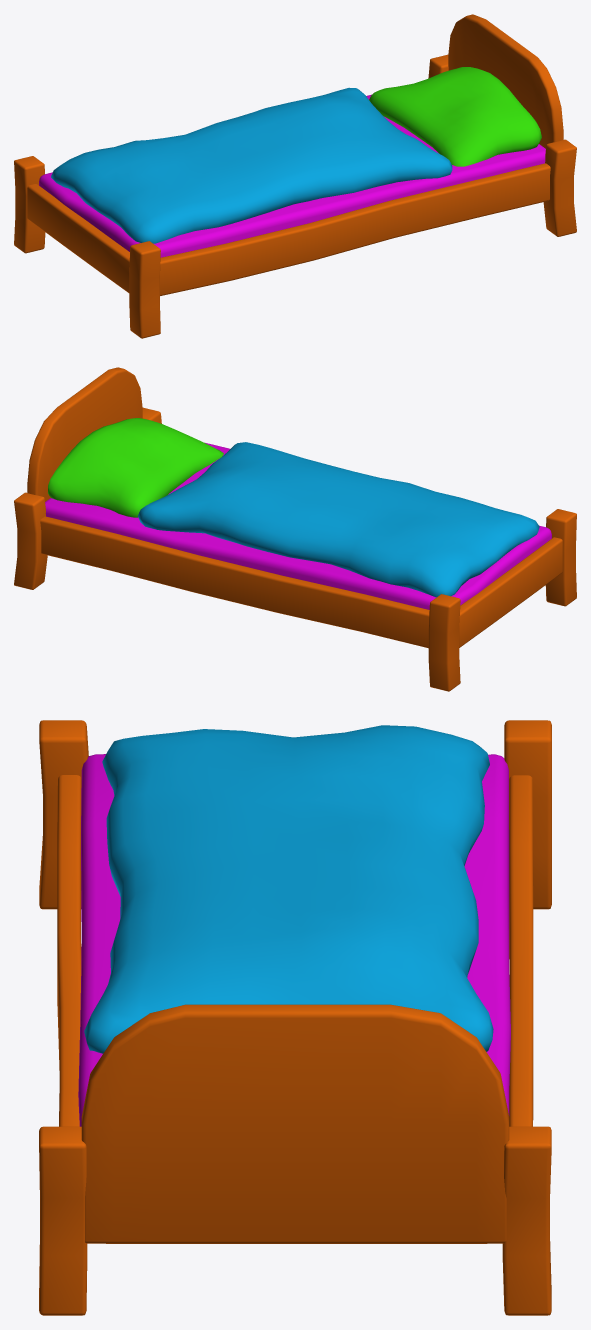
File: bed.glb
3 views of the same model, one above another, from view 1: azimuth 30°, elevation 25°; view 2: azimuth 150°, elevation 25°; view 3: azimuth 270°, elevation 25° (orthographic). The views are drawn at different scales.
Visible parts, largest first — view 1: BedFrame, Blanket, Pillow, Mattress; view 2: BedFrame, Blanket, Pillow, Mattress; view 3: BedFrame, Blanket, Mattress.
Part boxes in pixels (bbox=[...]): BedFrame: bbox=[14, 14, 576, 338]; Blanket: bbox=[51, 87, 452, 243]; Pillow: bbox=[369, 67, 541, 166]; Mattress: bbox=[39, 94, 545, 257]; BedFrame: bbox=[14, 367, 576, 691]; Blanket: bbox=[138, 442, 539, 597]; Pillow: bbox=[48, 418, 223, 517]; Mattress: bbox=[45, 442, 551, 609]; BedFrame: bbox=[39, 720, 551, 1315]; Blanket: bbox=[84, 725, 493, 1053]; Mattress: bbox=[78, 754, 510, 1126].
Bounding box in the file's own units: 2.12 × 0.7 × 1.08.
